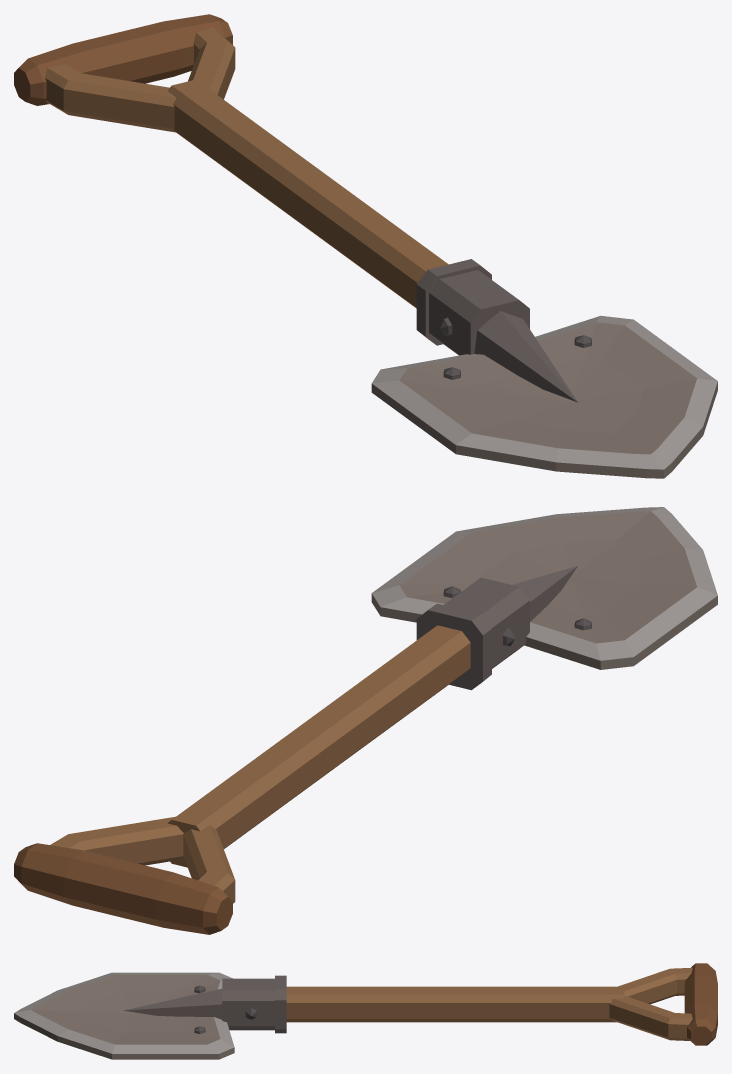
The model's file is mining-shovel-44b6d0.glb.
3 renders of one model, top to bottom at view 1: azimuth 30°, elevation 25°; view 2: azimuth 150°, elevation 25°; view 3: azimuth 270°, elevation 25°, orthographic. The views are drawn at different scales.
Parts seen in each view (by area): view 1: blade-metal, handle-wood; view 2: blade-metal, handle-wood; view 3: blade-metal, handle-wood.
Boxes of the visible parts, left/top/right/bottom form: blade-metal: left=371, top=259, right=717, bottom=478; handle-wood: left=14, top=14, right=448, bottom=308; blade-metal: left=371, top=507, right=717, bottom=690; handle-wood: left=14, top=625, right=470, bottom=934; blade-metal: left=14, top=972, right=286, bottom=1059; handle-wood: left=286, top=963, right=717, bottom=1045.
Size of the model in its own units: 0.3 by 0.076 by 1.1.
